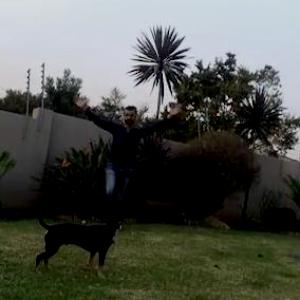takeoff: (78, 96, 200, 223)
